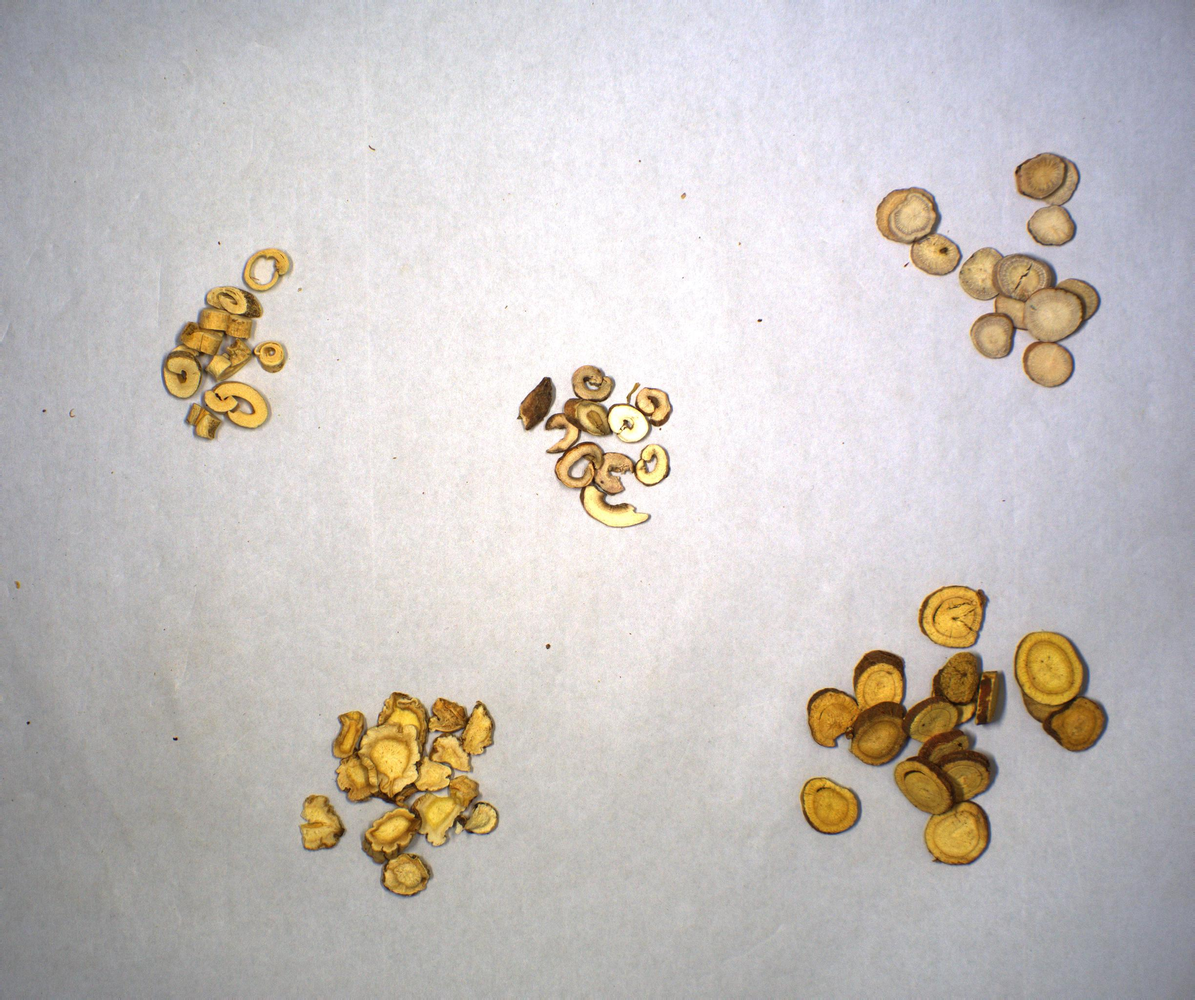baishao: (876, 149, 1109, 389)
baixianpi: (159, 247, 295, 442)
gancao: (800, 583, 1111, 867)
jiegeng: (292, 692, 505, 898)
mudanpi: (517, 362, 676, 530)
